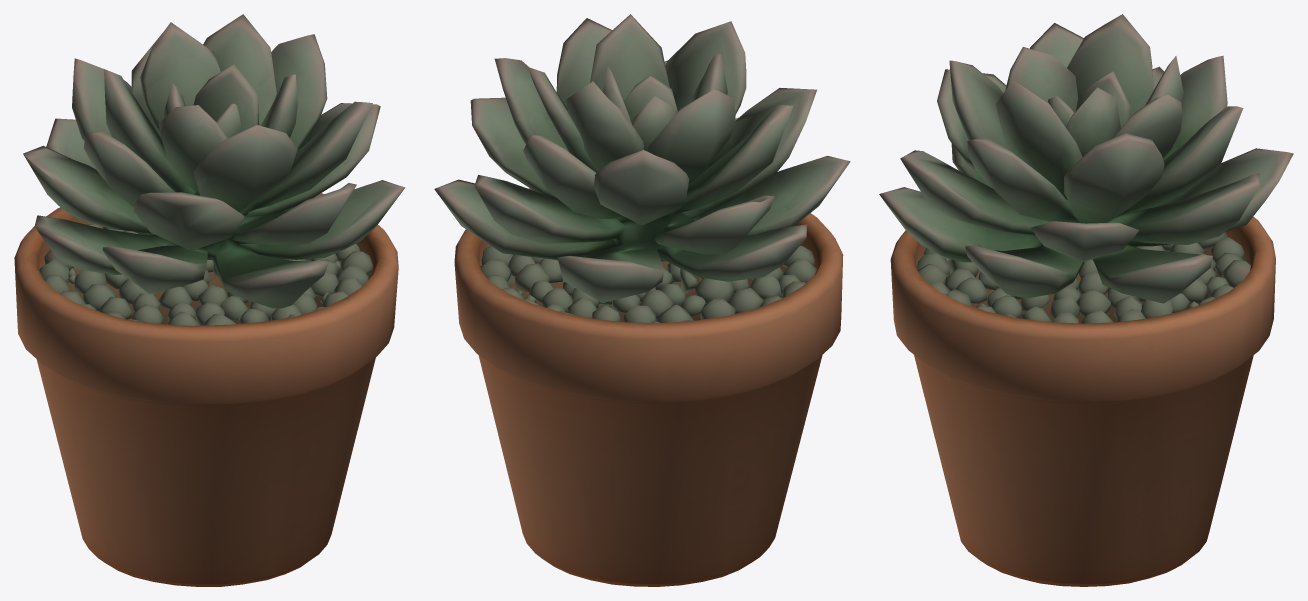
File: original_glb.glb
3 renders of one model, left to right at view 1: azimuth 30°, elevation 25°; view 2: azimuth 150°, elevation 25°; view 3: azimuth 270°, elevation 25°, orthographic.
Visible parts, largest first — view 1: Terracotta Rosette Succulent; view 2: Terracotta Rosette Succulent; view 3: Terracotta Rosette Succulent.
Boxes of the visible parts, box(x1,y1,x2,y2) form: Terracotta Rosette Succulent: box(14, 14, 405, 586); Terracotta Rosette Succulent: box(434, 14, 850, 586); Terracotta Rosette Succulent: box(879, 14, 1293, 586).
Bounding box in the file's own units: 0.7441 × 0.998 × 0.7715.
Materials: 1 (1 with a texture image).
